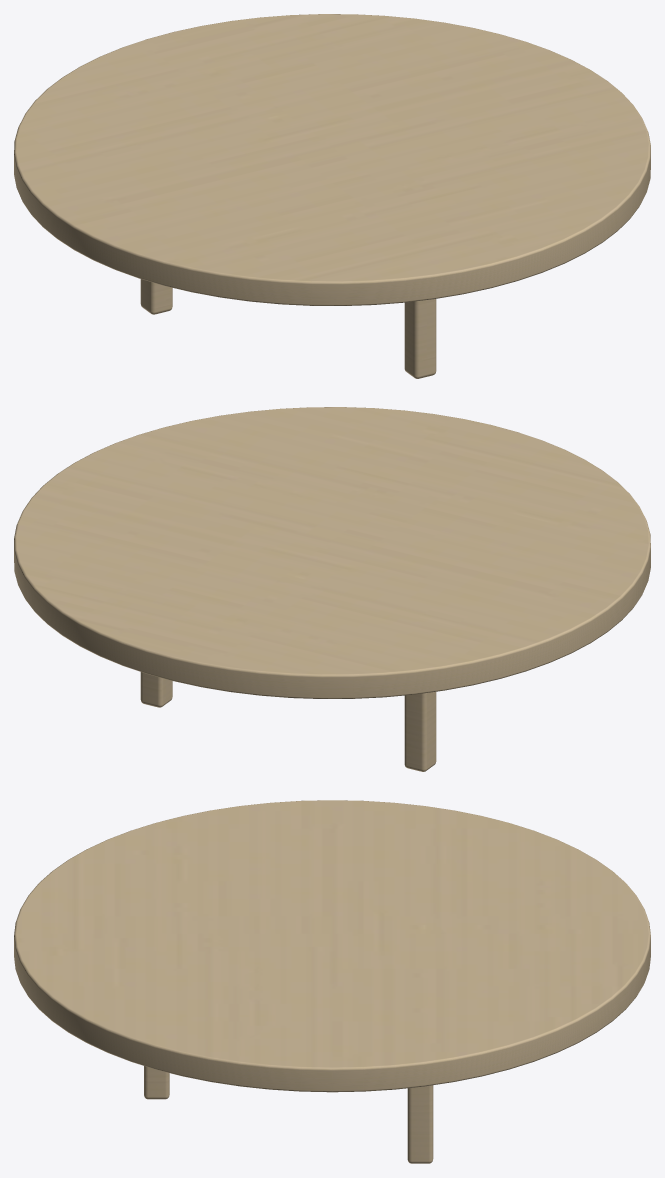
The model's file is coffee-table-v1.glb.
The picture shows the model from 3 angles, top to bottom: view 1: azimuth 30°, elevation 25°; view 2: azimuth 150°, elevation 25°; view 3: azimuth 270°, elevation 25°; orthographic projection.
Parts seen in each view (by area): view 1: Oak coffee top; view 2: Oak coffee top; view 3: Oak coffee top.
Part boxes in pixels (x1=…): Oak coffee top: x1=14, y1=14, x2=650, y2=378; Oak coffee top: x1=14, y1=407, x2=650, y2=771; Oak coffee top: x1=14, y1=800, x2=650, y2=1163.
Bounding box in the file's own units: 1.74 × 0.4875 × 1.74.
1 material, 1 textured.
